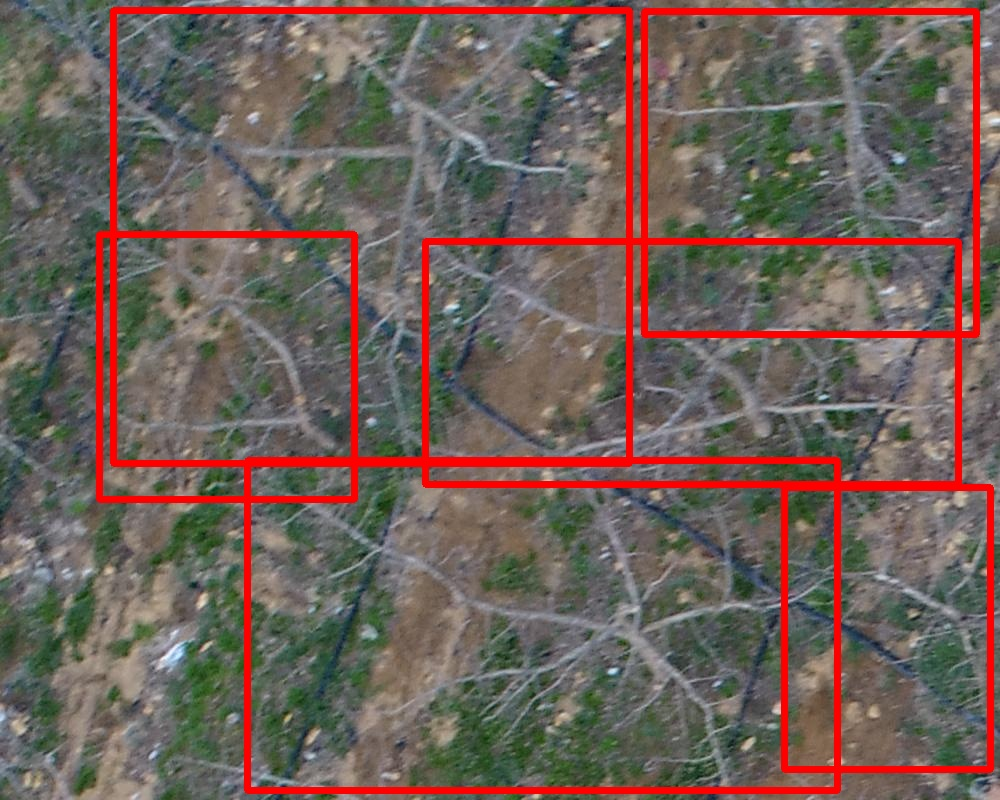apple: (113, 10, 629, 463), (247, 460, 837, 790), (425, 241, 958, 484), (644, 11, 976, 334), (99, 234, 354, 499), (784, 487, 990, 769)
